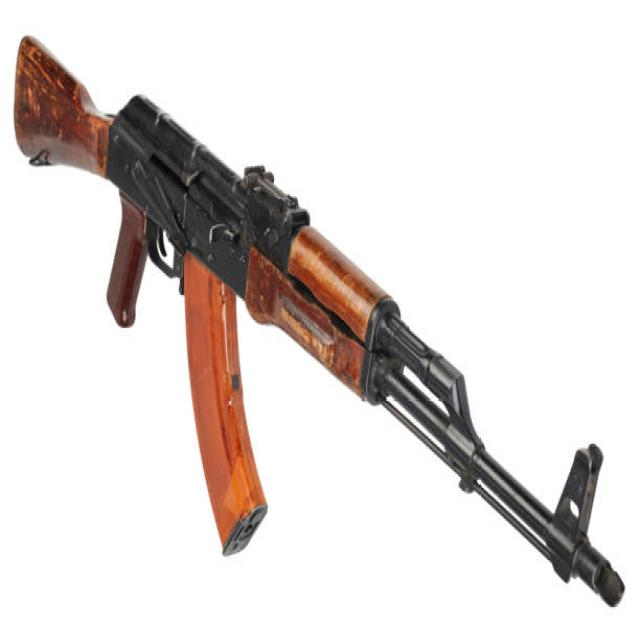rifle: (7, 27, 634, 620)
